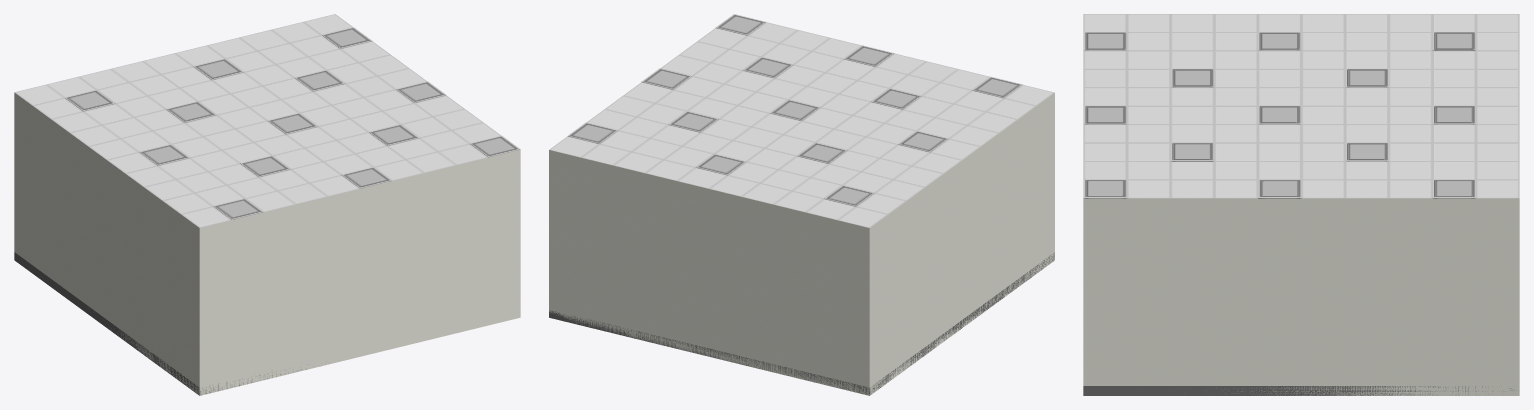
File: classroom.glb
3 renders of one model, left to right at view 1: azimuth 30°, elevation 25°; view 2: azimuth 150°, elevation 25°; view 3: azimuth 270°, elevation 25°, orthographic. The views are drawn at different scales.
Visible parts, largest first — view 1: Wall 1, Ceiling, Wall 2, Floor Molding 2, Ceiling Light.005, Ceiling Light.011, Ceiling Light.001, Ceiling Light.003, Ceiling Light.004, Ceiling Light.009, Ceiling Light.012, Ceiling Light.013 (+5 smaller); view 2: Wall 4, Ceiling, Wall 2, Floor Molding 4, Floor Molding 2, Ceiling Light.009, Ceiling Light.002, Ceiling Light.004, Ceiling Light.013, Ceiling Light.014, Ceiling Light.010, Ceiling Light.011 (+6 smaller); view 3: Wall 3, Ceiling, Floor Molding 3, Ceiling Light.014, Ceiling Light.008, Ceiling Light.003, Ceiling Light.004, Ceiling Light.005, Ceiling Light.009, Ceiling Light.010, Ceiling Light.007, Ceiling Light.011 (+4 smaller).
Part boxes in pixels (bbox=[...]): Wall 1: bbox=[199, 149, 520, 395]; Ceiling: bbox=[15, 14, 501, 227]; Wall 2: bbox=[14, 92, 199, 395]; Floor Molding 2: bbox=[14, 252, 199, 395]; Ceiling Light.005: bbox=[322, 27, 372, 48]; Ceiling Light.011: bbox=[240, 155, 290, 177]; Ceiling Light.001: bbox=[65, 90, 115, 111]; Ceiling Light.003: bbox=[193, 58, 243, 79]; Ceiling Light.004: bbox=[295, 70, 345, 91]; Ceiling Light.009: bbox=[396, 81, 446, 102]; Ceiling Light.012: bbox=[213, 198, 263, 219]; Ceiling Light.013: bbox=[342, 167, 392, 188]; Wall 4: bbox=[549, 150, 869, 395]; Ceiling: bbox=[549, 22, 1054, 227]; Wall 2: bbox=[869, 93, 1054, 395]; Floor Molding 4: bbox=[549, 310, 869, 395]; Floor Molding 2: bbox=[869, 252, 1054, 395]; Ceiling Light.009: bbox=[641, 68, 691, 89]; Ceiling Light.002: bbox=[797, 142, 847, 163]; Ceiling Light.004: bbox=[668, 111, 718, 132]; Ceiling Light.013: bbox=[844, 45, 894, 66]; Ceiling Light.014: bbox=[715, 14, 765, 35]; Ceiling Light.010: bbox=[743, 56, 793, 78]; Ceiling Light.011: bbox=[871, 88, 921, 109]; Wall 3: bbox=[1083, 198, 1519, 395]; Ceiling: bbox=[1083, 14, 1519, 198]; Floor Molding 3: bbox=[1083, 386, 1512, 395]; Ceiling Light.014: bbox=[1083, 179, 1127, 198]; Ceiling Light.008: bbox=[1257, 105, 1301, 124]; Ceiling Light.003: bbox=[1432, 105, 1475, 124]; Ceiling Light.004: bbox=[1345, 142, 1388, 161]; Ceiling Light.005: bbox=[1432, 179, 1475, 198]; Ceiling Light.009: bbox=[1258, 179, 1301, 198]; Ceiling Light.010: bbox=[1170, 142, 1213, 161]; Ceiling Light.007: bbox=[1257, 32, 1301, 50]; Ceiling Light.011: bbox=[1170, 69, 1214, 87].
Bounding box in the file's own units: 24.01 × 12.03 × 24.
Materials: 8 (4 with a texture image).
